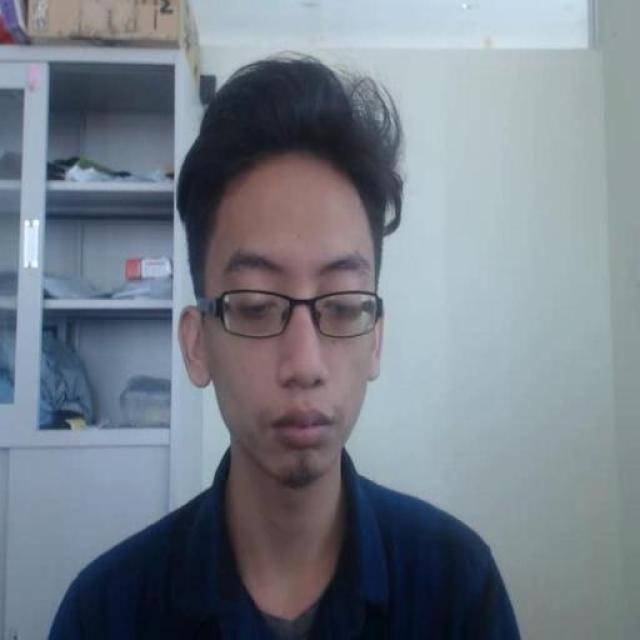bareface: (184, 144, 382, 486)
